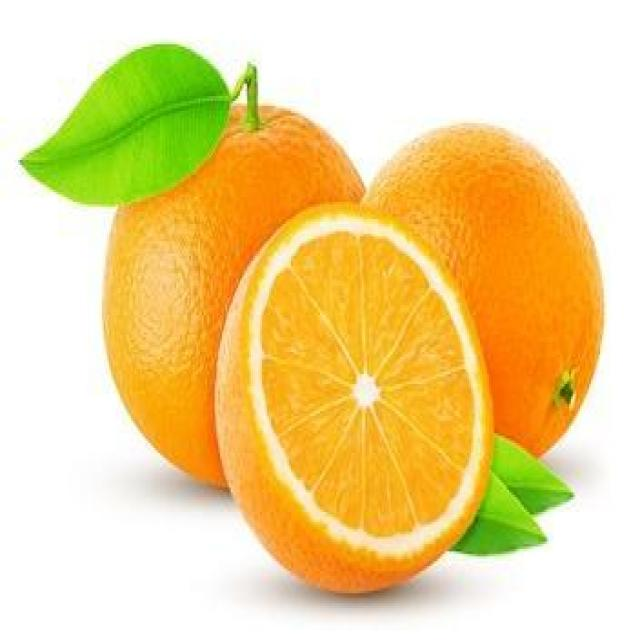Orange: (223, 214, 484, 603), (479, 119, 608, 453), (98, 202, 212, 480)
